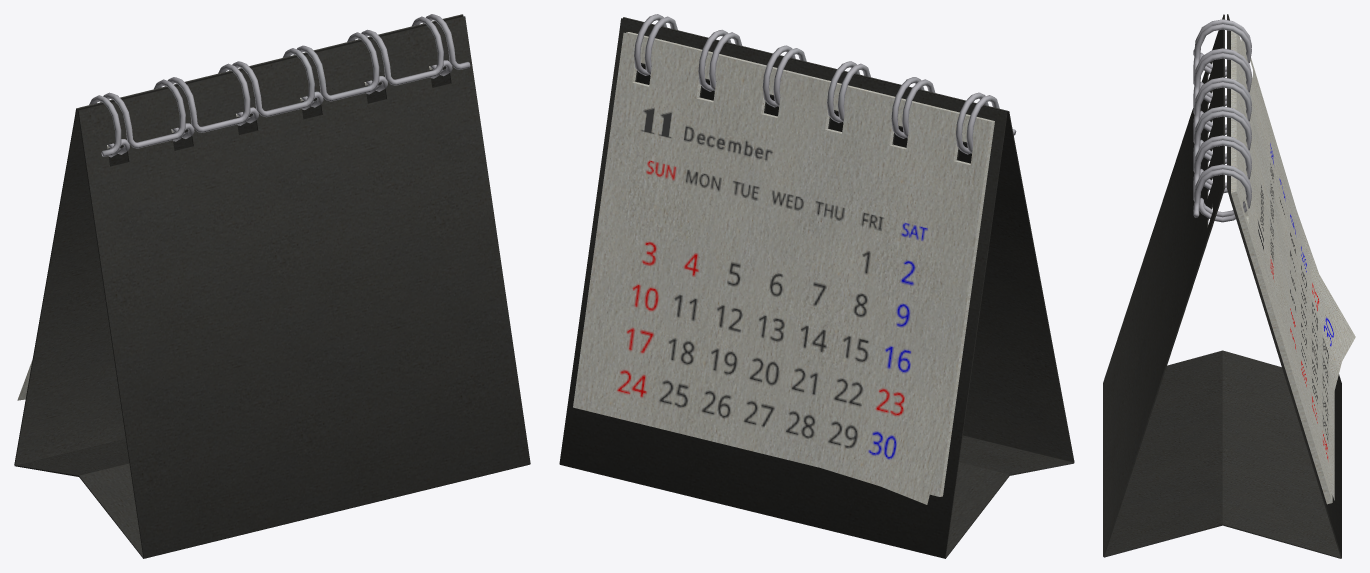
File: Desk_Calendar.fbx
3 views of the same model, side by side, from view 1: azimuth 30°, elevation 25°; view 2: azimuth 150°, elevation 25°; view 3: azimuth 270°, elevation 25° (orthographic). The views are drawn at different scales.
Visible parts, largest first — view 1: DeskCalendar.001, DeskCalendar; view 2: DeskCalendar.003, DeskCalendar.001, DeskCalendar, DeskCalendar.002; view 3: DeskCalendar.001, DeskCalendar.003, DeskCalendar, DeskCalendar.002.
Boxes of the visible parts, left/top/right/bottom form: DeskCalendar.001: left=14, top=14, right=530, bottom=558; DeskCalendar: left=89, top=14, right=470, bottom=157; DeskCalendar.003: left=573, top=32, right=989, bottom=504; DeskCalendar.001: left=559, top=17, right=1074, bottom=558; DeskCalendar: left=634, top=14, right=1016, bottom=154; DeskCalendar.002: left=626, top=32, right=994, bottom=496; DeskCalendar.001: left=1103, top=14, right=1341, bottom=558; DeskCalendar.003: left=1241, top=38, right=1355, bottom=500; DeskCalendar: left=1193, top=19, right=1251, bottom=222; DeskCalendar.002: left=1231, top=31, right=1332, bottom=504.
Bounding box in the file's own units: 6 × 6.07 × 3.69.
